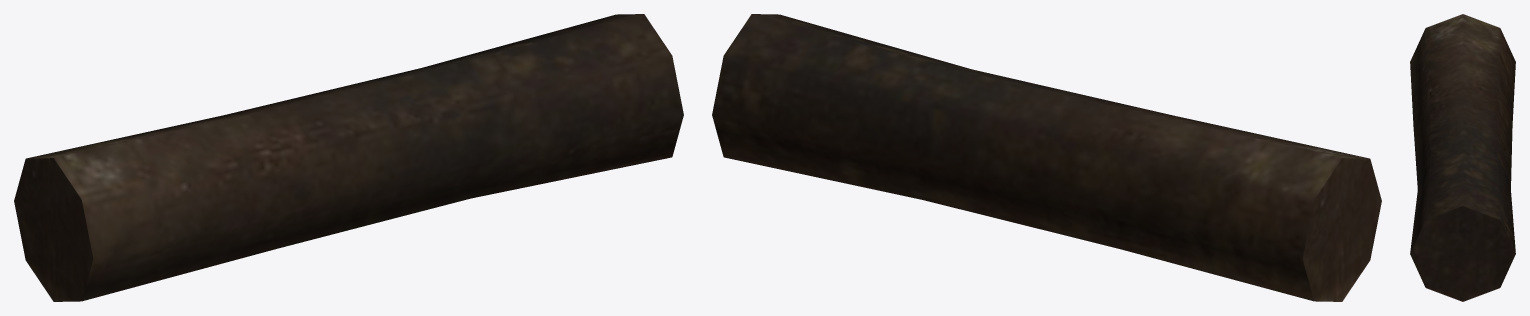
The model's file is WoodRoundLog_02.FBX.
The picture shows the model from 3 angles, left to right: view 1: azimuth 30°, elevation 25°; view 2: azimuth 150°, elevation 25°; view 3: azimuth 270°, elevation 25°; orthographic projection. The views are drawn at different scales.
Parts seen in each view (by area): view 1: WoodRoundLog_02; view 2: WoodRoundLog_02; view 3: WoodRoundLog_02.
Boxes of the visible parts, x1,y1,x2,y2 form: WoodRoundLog_02: (14,14,683,301); WoodRoundLog_02: (712,14,1381,301); WoodRoundLog_02: (1410,14,1515,301).
Size of the model in its own units: 85.93 by 20.01 by 20.01.
